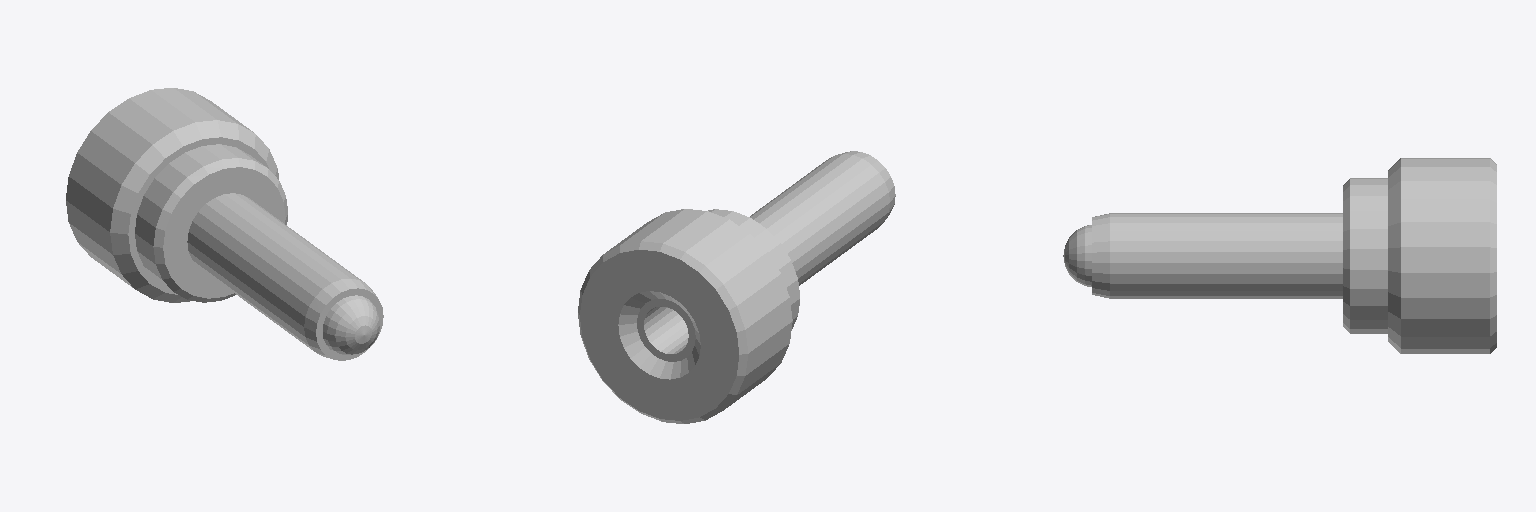
File: KM100_Screw.obj
The picture shows the model from 3 angles: view 1: azimuth 30°, elevation 25°; view 2: azimuth 150°, elevation 25°; view 3: azimuth 270°, elevation 25°; orthographic projection.
Parts seen in each view (by area): view 1: polySurface964 group49; view 2: polySurface964 group49; view 3: polySurface964 group49.
Boxes of the visible parts, x1=… form: polySurface964 group49: x1=66, y1=88, x2=383, y2=360; polySurface964 group49: x1=578, y1=151, x2=895, y2=423; polySurface964 group49: x1=1063, y1=158, x2=1496, y2=353.
Bounding box in the file's own units: 14.67 × 14.67 × 32.26.